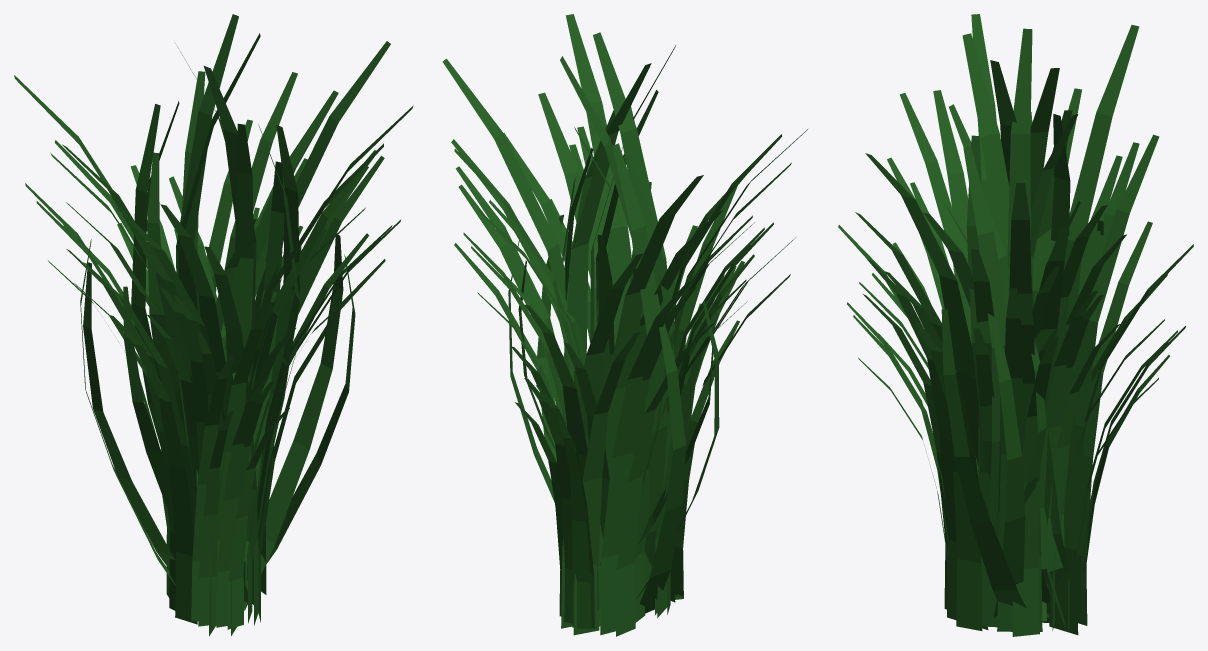
Rendered from Swamp_Bush_Mid.fbx.
The picture shows the model from 3 angles, left to right: view 1: azimuth 30°, elevation 25°; view 2: azimuth 150°, elevation 25°; view 3: azimuth 270°, elevation 25°; orthographic projection. The views are drawn at different scales.
Parts seen in each view (by area): view 1: Plane.010; view 2: Plane.010; view 3: Plane.010.
Part boxes in pixels (x1,y1,x2,y2): Plane.010: (14, 14, 413, 636); Plane.010: (442, 14, 807, 636); Plane.010: (838, 14, 1193, 636).
Bounding box in the file's own units: 81.11 × 128 × 71.36.
